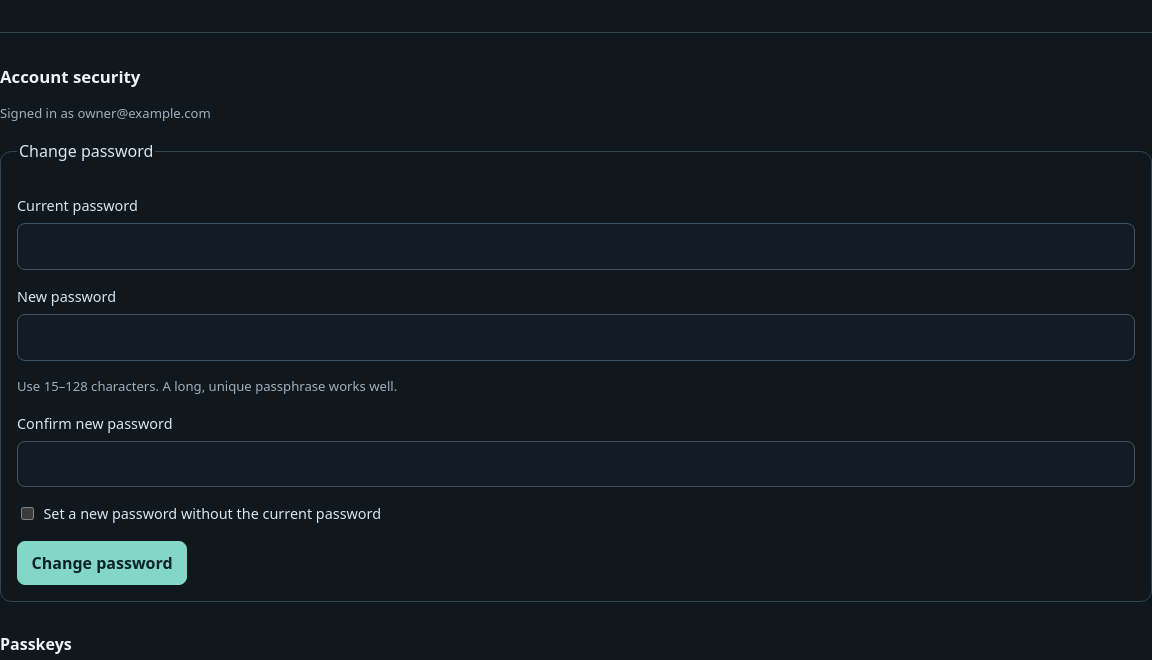
Test: account security › does not reuse recovery authority if the fresh security check revokes it
This screenshot has width=1152, height=660.
In the password field labelled "New password": (576, 337) [17,314,1135,361], type "a long private passphrase"
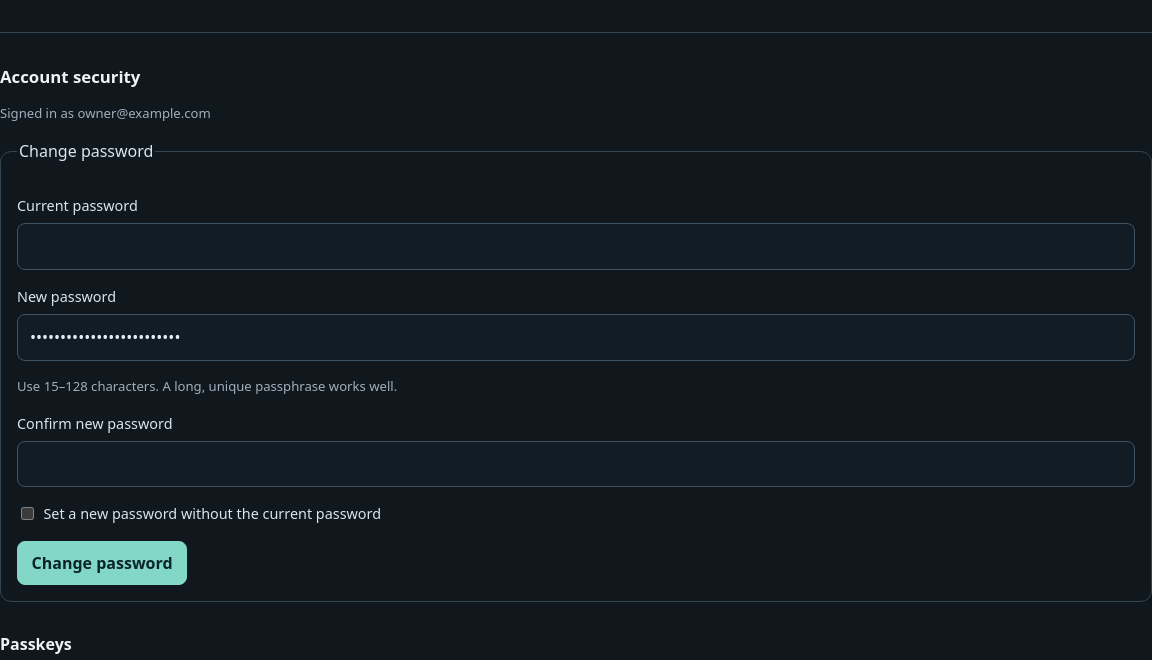
In the password field labelled "Confirm new password": (576, 464) [17,440,1135,487], type "a long private passphrase"
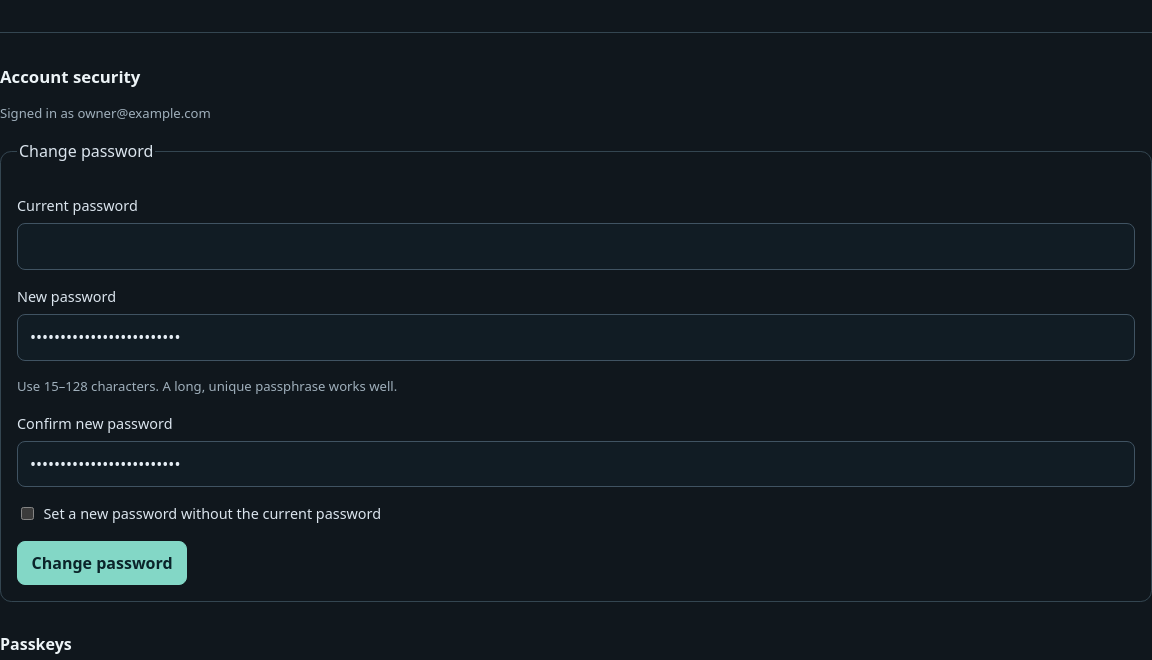
Click the checkbox labelled "Set a new password without the current password": (28, 514) [21,507,34,520]
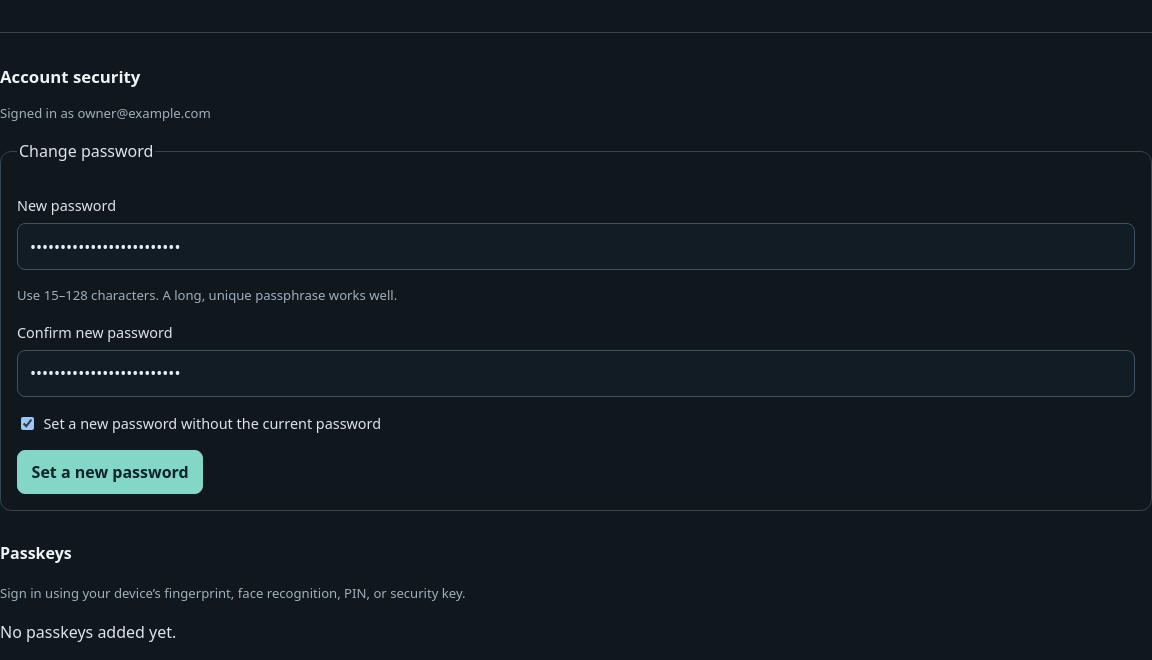
Click the button "Set a new password": (110, 472) [17,450,203,494]
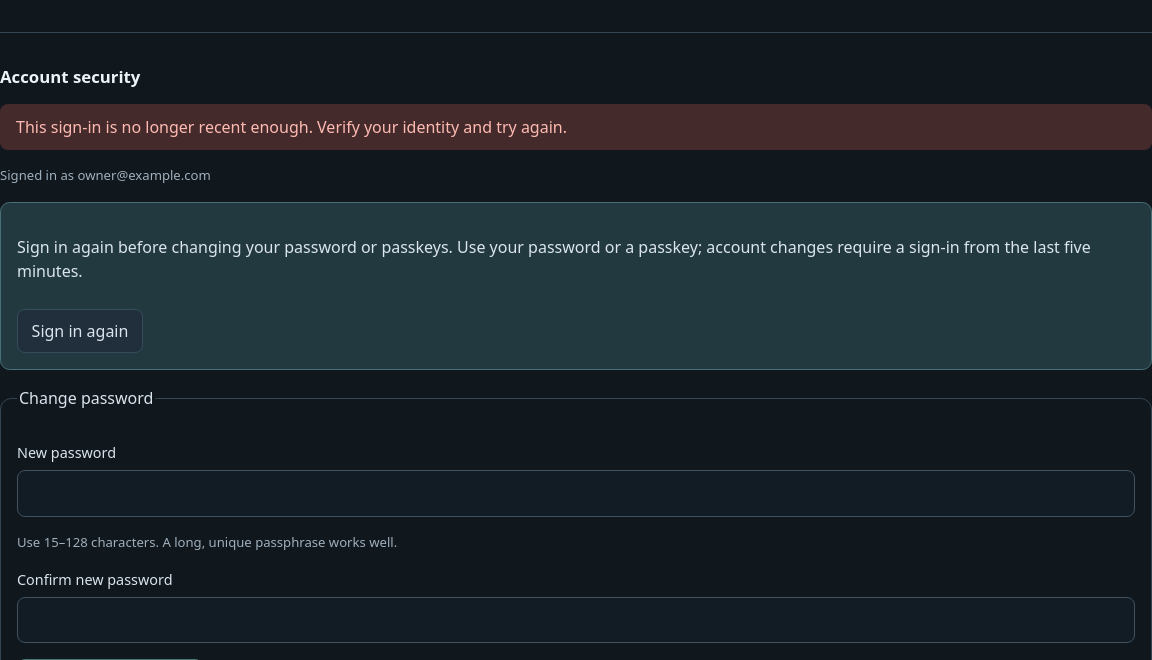
Result: the message "This sign-in is no longer recent enough. Verify your identity and try again." is shown at [0,104,1151,150]
